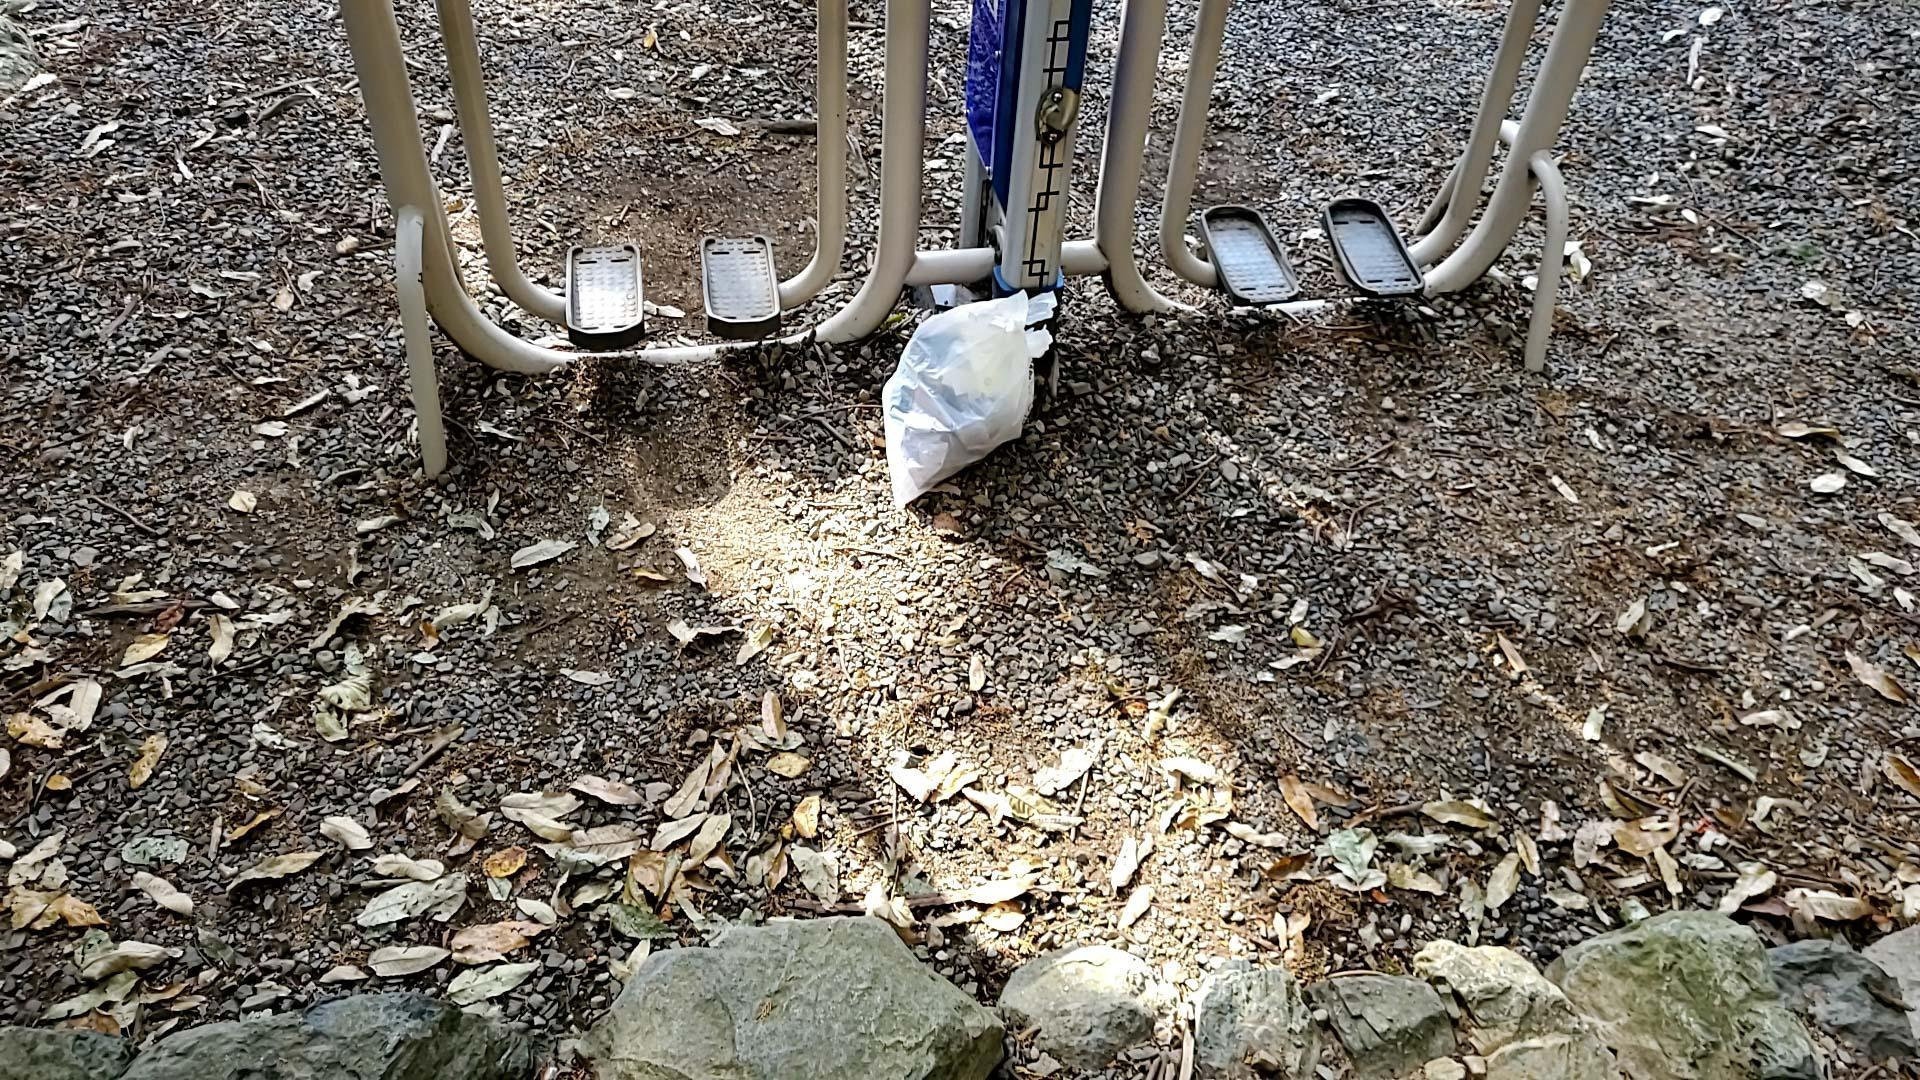white_bag: (862, 284, 1065, 522)
